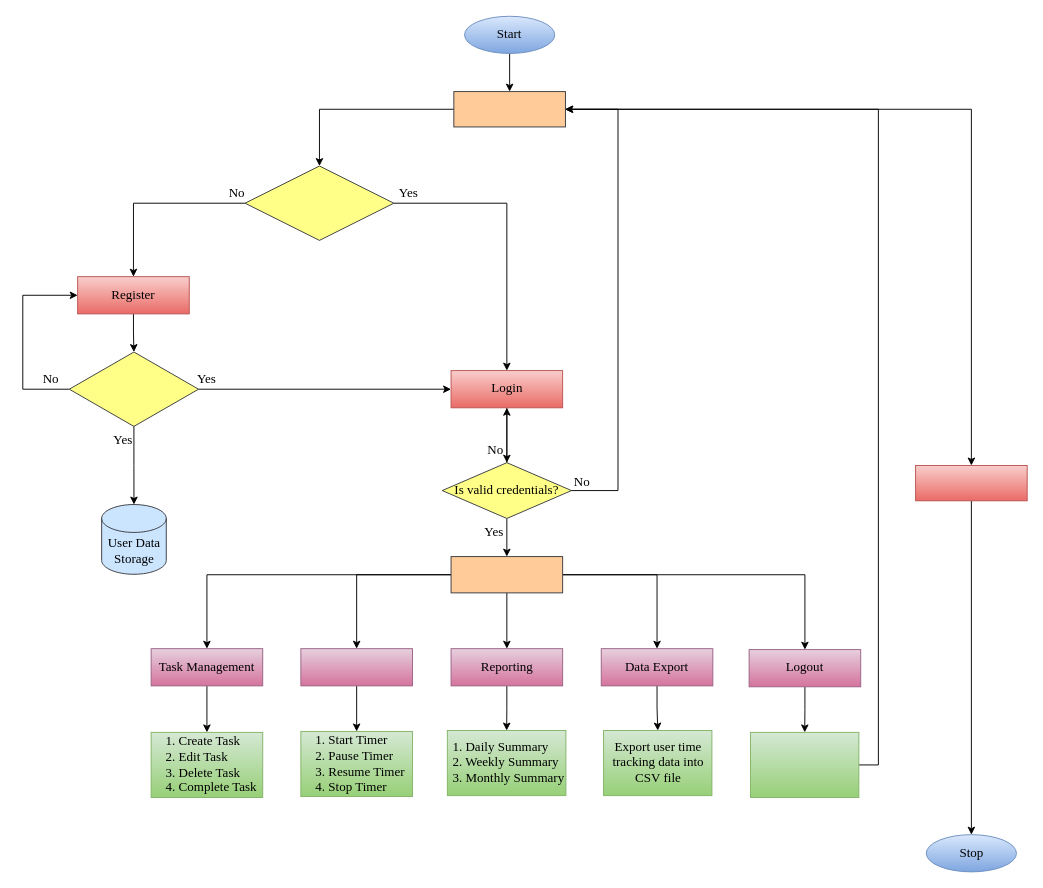
This 1043x888 diagram has some shape labels left out. The shapes that lost their labels are listed below. From the top down, each one's centre as x and y in pixels, then its label:
At [509,109]: "Main menu".
At [319,202]: "Is User already registered?".
At [133,388]: "Is username and password valid?".
At [971,483]: "Exit".
At [506,574]: "Time Tracker Menu".
At [356,667]: "Time Tracking".
At [804,764]: "Go to Main Menu".
